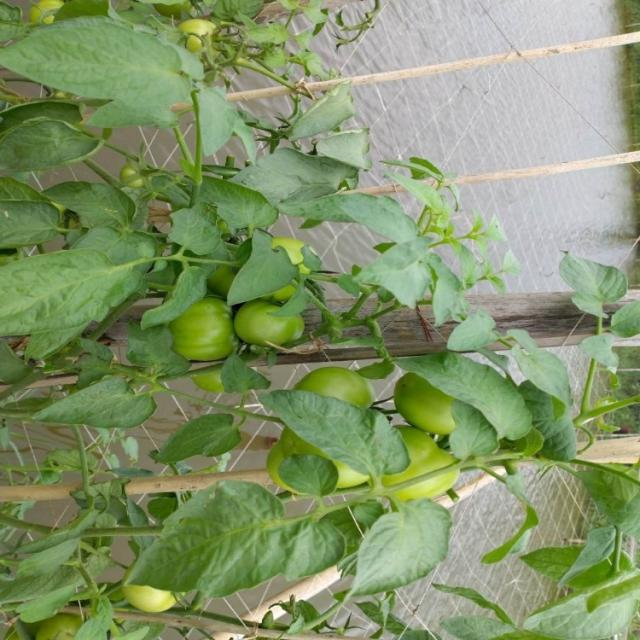tomato: (231, 290, 326, 361), (390, 432, 470, 509), (385, 369, 467, 442), (293, 360, 383, 418), (165, 290, 237, 362), (119, 574, 187, 619), (36, 612, 86, 640), (187, 14, 218, 48)
